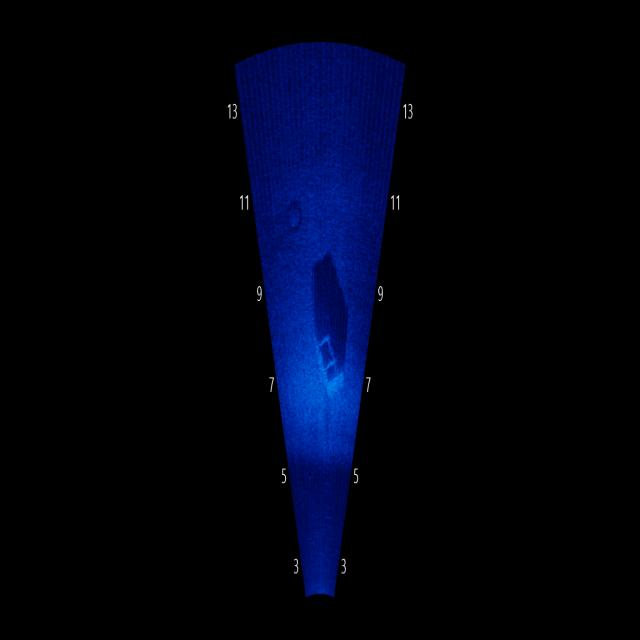square: (315, 328, 345, 397)
